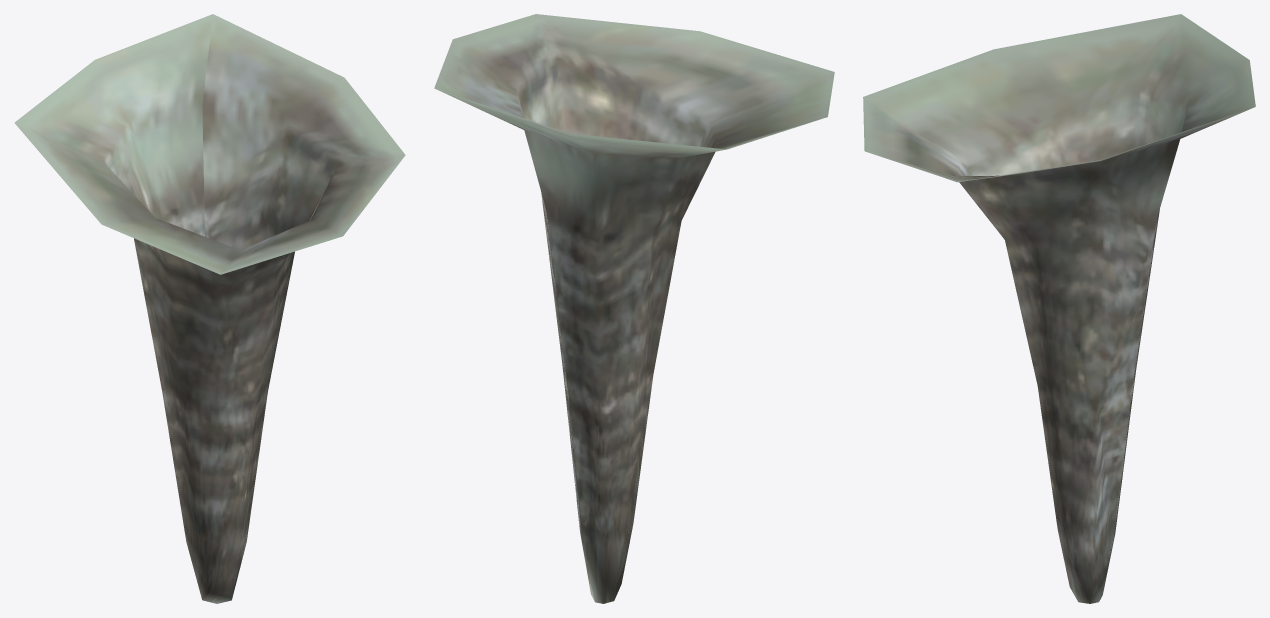
File: TROLLHOLE02_PS-MAINSTALAG64.fbx
The picture shows the model from 3 angles, left to right: view 1: azimuth 30°, elevation 25°; view 2: azimuth 150°, elevation 25°; view 3: azimuth 270°, elevation 25°; orthographic projection. The views are drawn at different scales.
Visible parts, largest first — view 1: TROLLHOLE02_PS-MAINSTALAG64; view 2: TROLLHOLE02_PS-MAINSTALAG64; view 3: TROLLHOLE02_PS-MAINSTALAG64.
Boxes of the visible parts, x1,y1,x2,y2 form: TROLLHOLE02_PS-MAINSTALAG64: [14, 14, 405, 603]; TROLLHOLE02_PS-MAINSTALAG64: [434, 14, 834, 603]; TROLLHOLE02_PS-MAINSTALAG64: [863, 14, 1255, 603].
Size of the model in its own units: 17096 by 28373 by 18952.
1 material, 1 textured.
